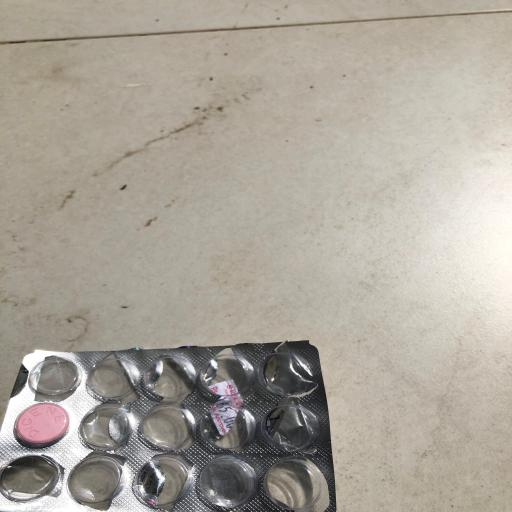waste: (2, 330, 345, 512)
